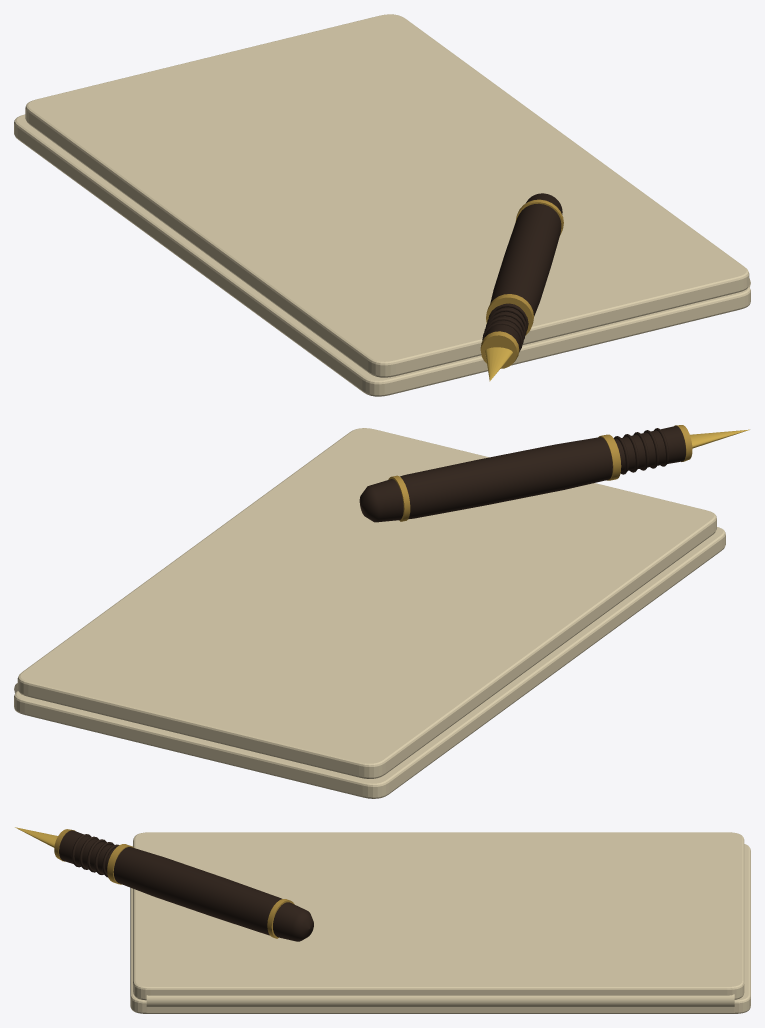
File: ch6-piece-pen-document.glb
The picture shows the model from 3 angles, top to bottom: view 1: azimuth 30°, elevation 25°; view 2: azimuth 150°, elevation 25°; view 3: azimuth 270°, elevation 25°; orthographic projection. The views are drawn at different scales.
Visible parts, largest first — view 1: document_leaf_2, document_leaf_1, pen_barrel, nib_collar; view 2: document_leaf_2, document_leaf_1, pen_barrel, grip_section; view 3: document_leaf_2, pen_barrel, document_fold, document_leaf_1, grip_section, band_mid.
Part boxes in pixels (<box>): document_leaf_2: <box>25,14,749,377</box>; document_leaf_1: <box>14,114,750,396</box>; pen_barrel: <box>490,193,562,316</box>; nib_collar: <box>480,331,519,368</box>; document_leaf_2: <box>17,428,716,778</box>; document_leaf_1: <box>14,527,725,798</box>; pen_barrel: <box>359,437,612,522</box>; grip_section: <box>614,426,685,471</box>; document_leaf_2: <box>133,832,744,1000</box>; pen_barrel: <box>113,847,313,941</box>; document_fold: <box>146,994,734,1006</box>; document_leaf_1: <box>130,844,750,1013</box>; grip_section: <box>59,830,115,873</box>; band_mid: <box>107,844,133,884</box>.
Bounding box in the file's own units: 0.204 × 0.038 × 0.3947.
